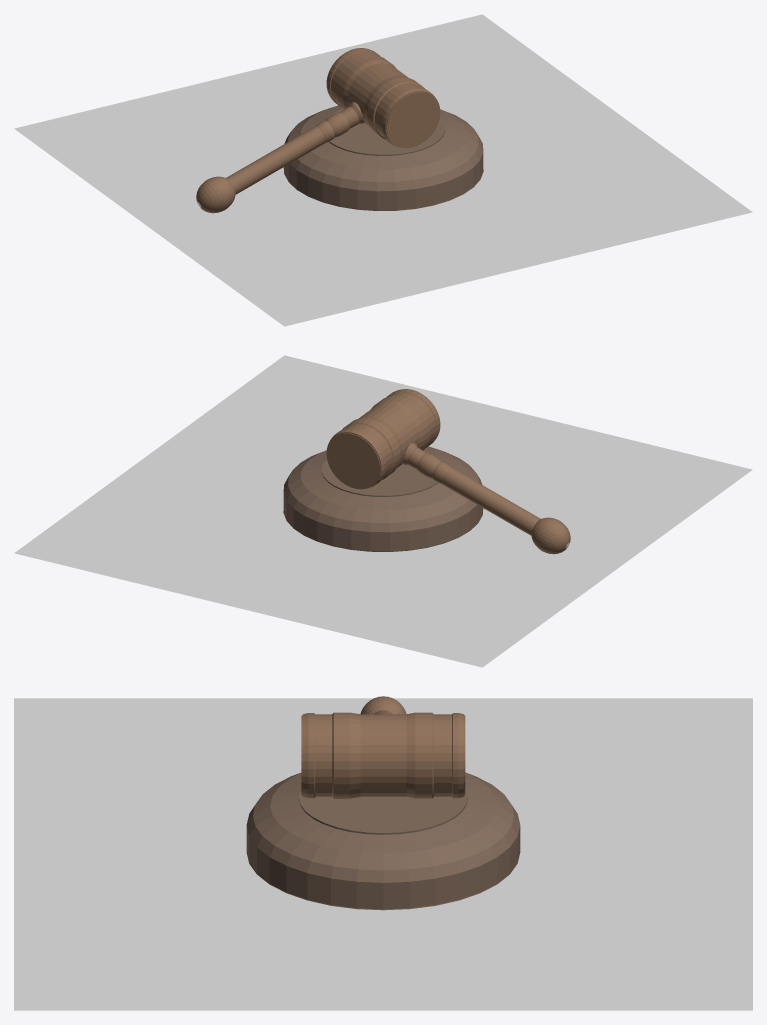
The model's file is Gavel 2.fbx.
The picture shows the model from 3 angles, top to bottom: view 1: azimuth 30°, elevation 25°; view 2: azimuth 150°, elevation 25°; view 3: azimuth 270°, elevation 25°; orthographic projection. The views are drawn at different scales.
Parts seen in each view (by area): view 1: Plane, Cylinder, Cylinder.001; view 2: Plane, Cylinder, Cylinder.001; view 3: Plane, Cylinder, Cylinder.001.
Boxes of the visible parts, <box> form: Plane: <box>14,14,752,326</box>; Cylinder: <box>283,105,483,210</box>; Cylinder.001: <box>196,48,440,213</box>; Plane: <box>14,355,752,667</box>; Cylinder: <box>283,446,483,551</box>; Cylinder.001: <box>326,389,570,554</box>; Plane: <box>14,698,752,1010</box>; Cylinder: <box>246,772,520,910</box>; Cylinder.001: <box>301,696,465,798</box>.
Size of the model in its own units: 1407 by 290 by 1407.
